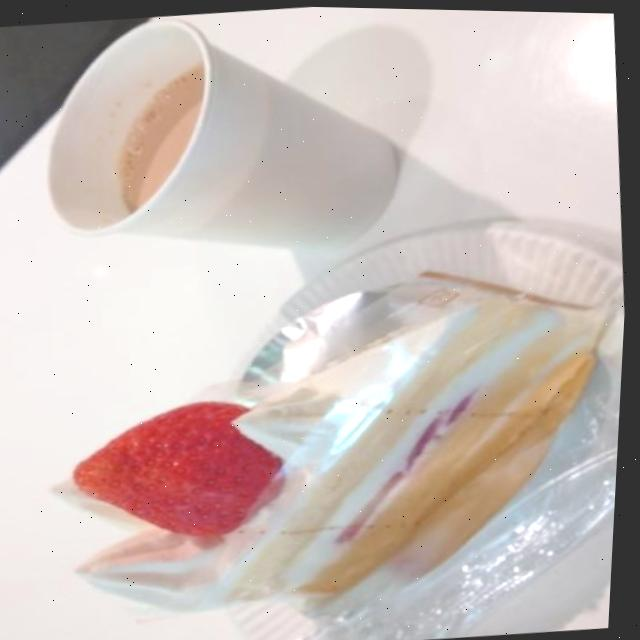蛋糕甜品: (31, 215, 631, 640)
